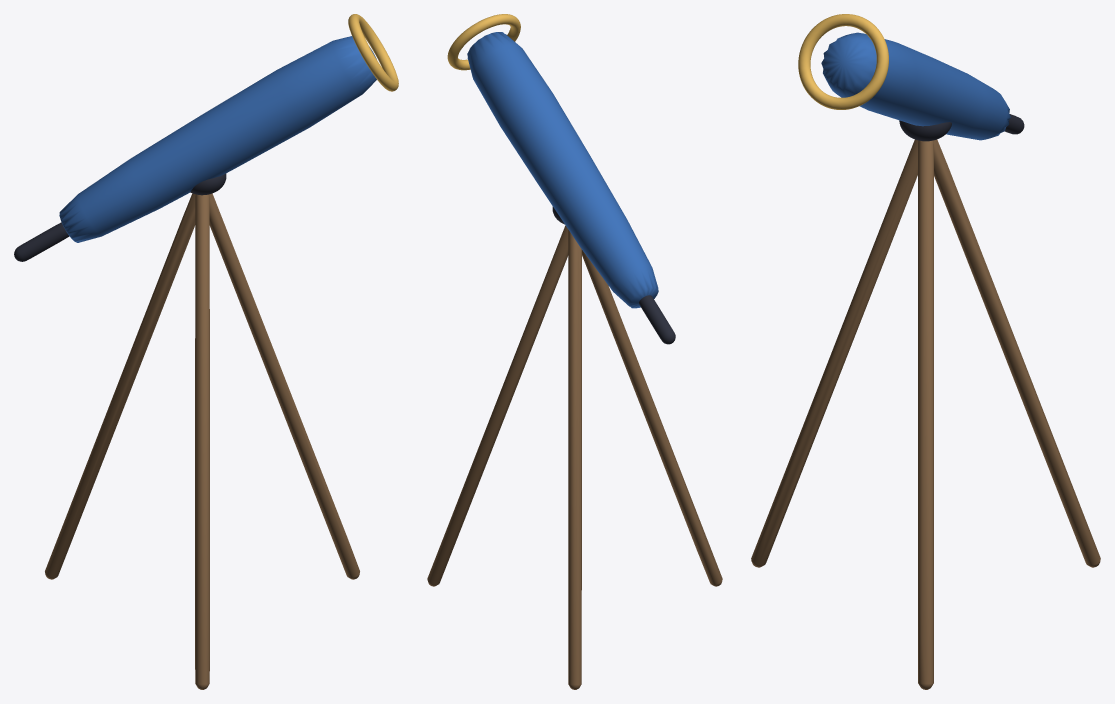
File: deco_telescopio.glb
3 views of the same model, side by side, from view 1: azimuth 30°, elevation 25°; view 2: azimuth 150°, elevation 25°; view 3: azimuth 270°, elevation 25° (orthographic). The views are drawn at different scales.
Parts seen in each view (by area): view 1: tubo telescopio.001, pata trípode 2.001, pata trípode 0.001, pata trípode 1.001, boca telescopio.001, ocular.001; view 2: tubo telescopio.001, pata trípode 1.001, pata trípode 0.001, pata trípode 2.001, boca telescopio.001, ocular.001; view 3: tubo telescopio.001, pata trípode 0.001, pata trípode 1.001, pata trípode 2.001, boca telescopio.001, cabeza trípode.001.
Boxes of the visible parts, box(x1,y1,x2,y2) form: tubo telescopio.001: box(59, 36, 376, 242); pata trípode 2.001: box(195, 194, 209, 689); pata trípode 0.001: box(209, 193, 359, 579); pata trípode 1.001: box(45, 193, 195, 579); boca telescopio.001: box(348, 14, 398, 91); ocular.001: box(14, 222, 69, 261); tubo telescopio.001: box(467, 32, 658, 308); pata trípode 1.001: box(568, 230, 581, 689); pata trípode 0.001: box(427, 225, 568, 586); pata trípode 2.001: box(582, 250, 722, 586); boca telescopio.001: box(447, 14, 520, 70); ocular.001: box(639, 295, 675, 344); tubo telescopio.001: box(821, 32, 1010, 140); pata trípode 0.001: box(918, 140, 933, 689); pata trípode 1.001: box(933, 139, 1100, 567); pata trípode 2.001: box(751, 139, 918, 567); boca telescopio.001: box(798, 14, 888, 109); cabeza trípode.001: box(899, 120, 951, 141).
Size of the model in its own units: 0.5725 by 1.06 by 0.5099.
